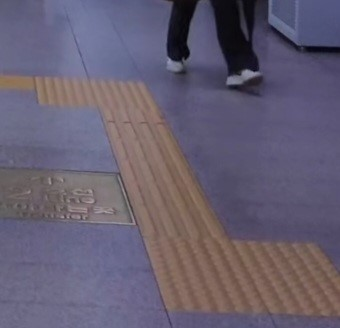guideBlock: (103, 101, 165, 145), (141, 208, 221, 242), (121, 156, 197, 186), (114, 133, 177, 166), (130, 183, 200, 207)
warningBlock: (148, 241, 256, 308), (242, 243, 340, 315)
